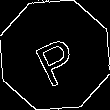P_NW: (27, 24, 83, 86)
